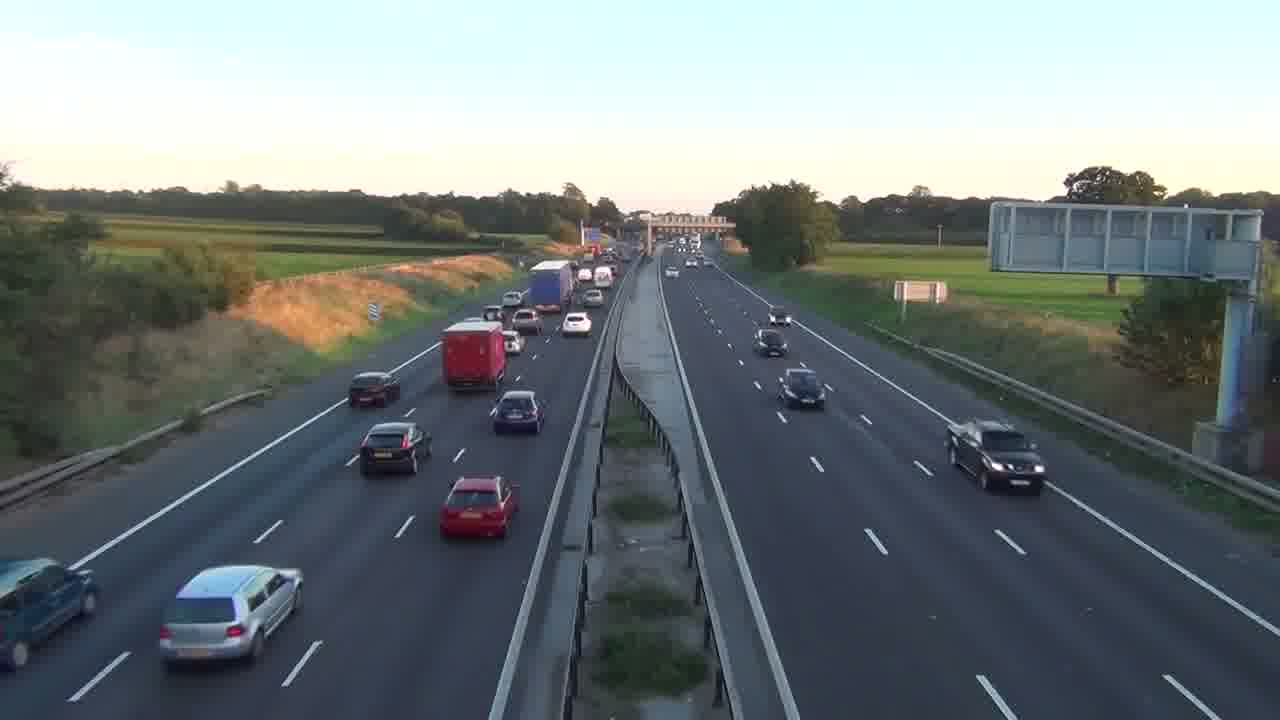bus: (440, 321, 507, 390)
car: (158, 563, 305, 665), (945, 417, 1047, 494), (438, 474, 520, 540), (359, 421, 433, 476), (489, 390, 545, 435), (778, 365, 827, 409), (560, 310, 593, 338)
truck: (0, 557, 100, 648), (440, 321, 507, 390), (524, 259, 575, 315)
